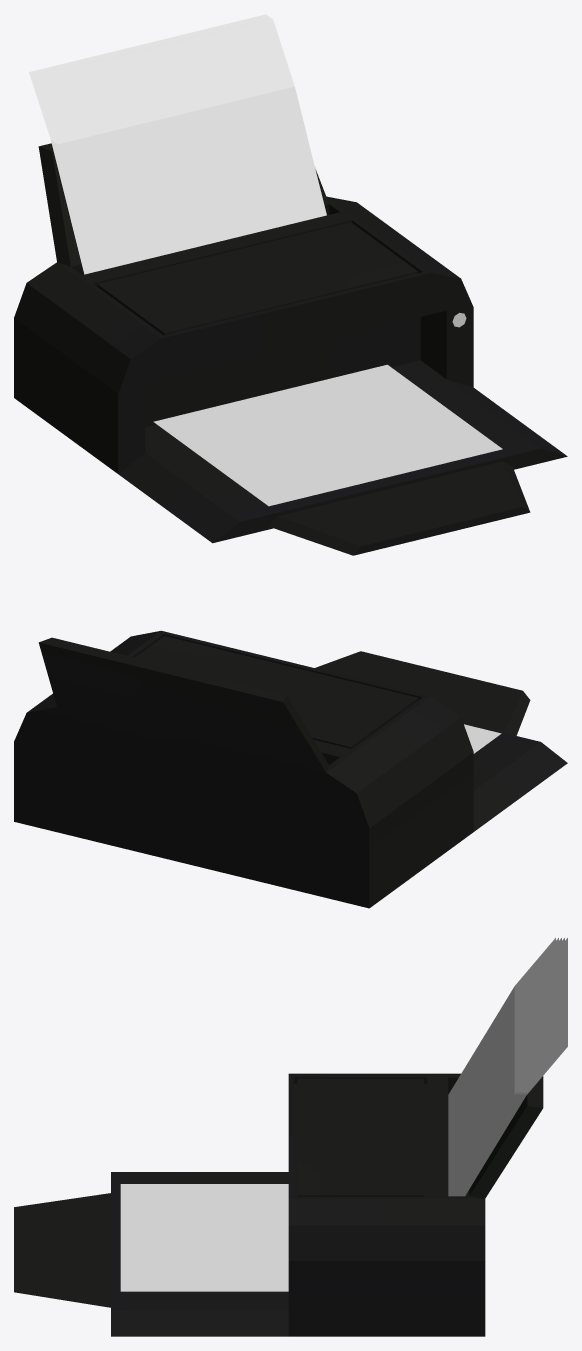
File: printer.glb
3 renders of one model, top to bottom at view 1: azimuth 30°, elevation 25°; view 2: azimuth 150°, elevation 25°; view 3: azimuth 270°, elevation 25°, orthographic. The views are drawn at different scales.
Visible parts, largest first — view 1: Printer; view 2: Printer; view 3: Printer.
Part boxes in pixels (<box>): Printer: <box>14,14,567,555</box>; Printer: <box>14,630,567,908</box>; Printer: <box>14,938,567,1336</box>.
Bounding box in the file's own units: 0.3489 × 0.2619 × 0.5.
1 material, 1 textured.
